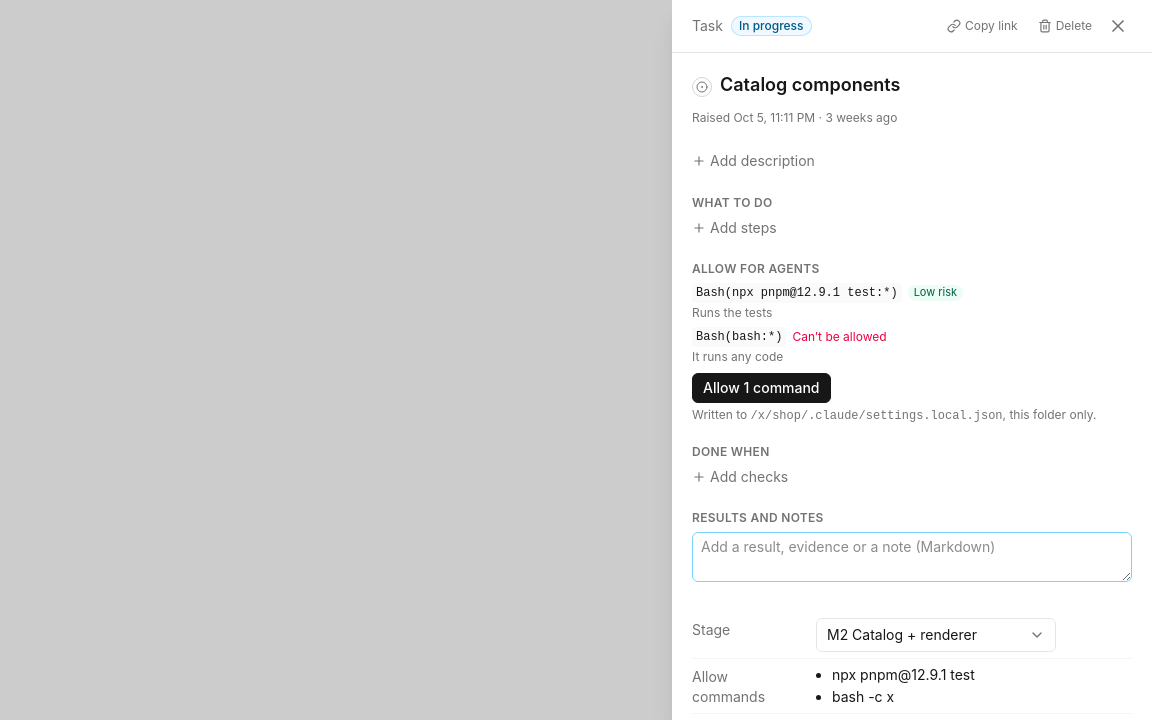
it: task details in the drawer › offers one button for the commands a task asks you to allow, with their risk
Expected: the text "Bash(npx pnpm@12.9.1 test:*)" is shown, top-left (692, 283), bottom-right (902, 303)
Expected: the text "Low risk" is shown, top-left (908, 285), bottom-right (963, 301)
Click the button "Allow 1 command" at (761, 388), box top-left (692, 373), bottom-right (830, 403)
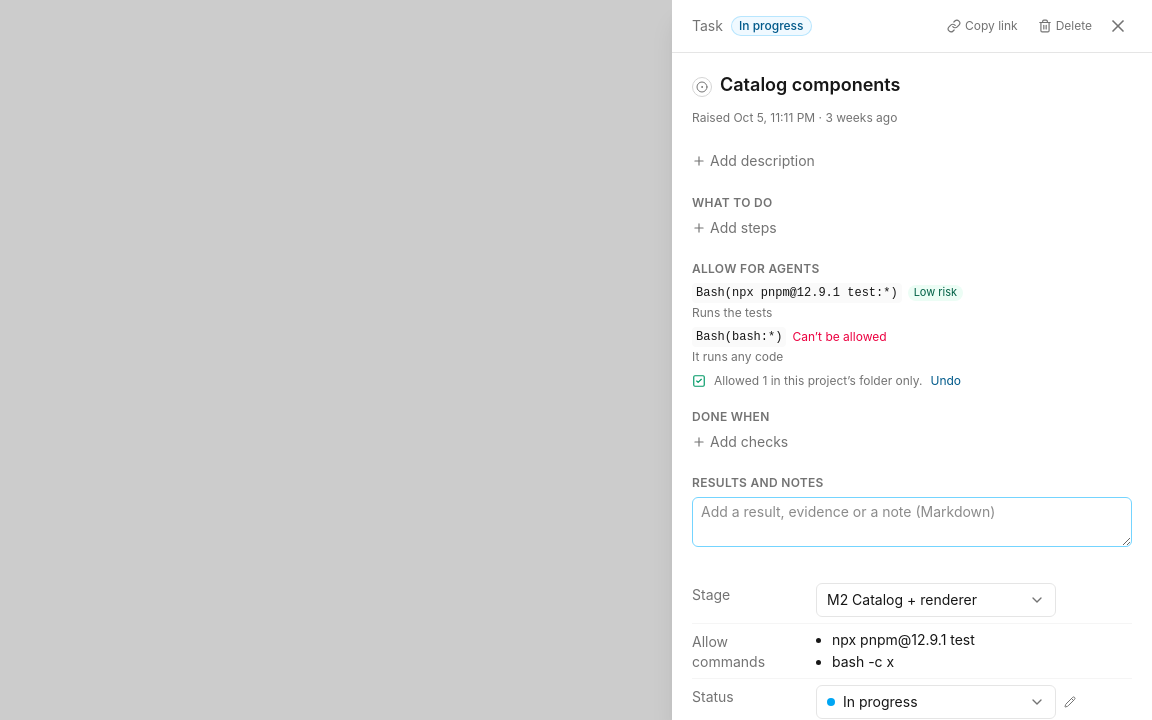
Expected: the text "Allowed 1 in this project’s folder only. Undo" is shown, top-left (692, 373), bottom-right (961, 389)
